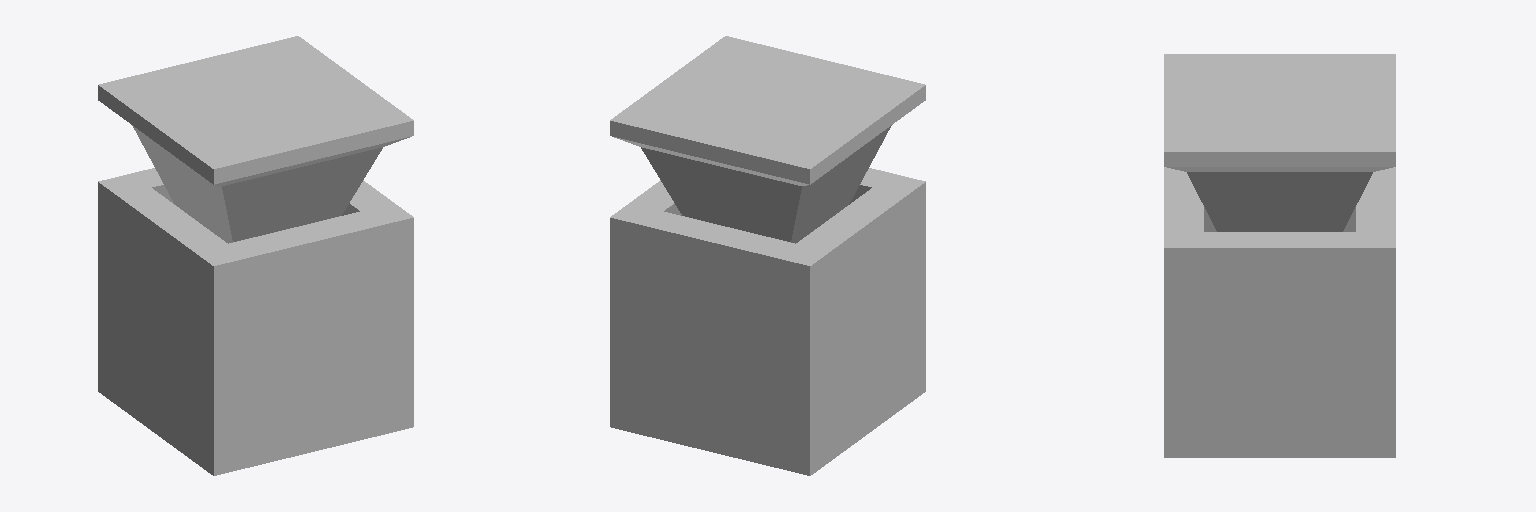
File: AnimatedBox_000168.obj
The picture shows the model from 3 angles: view 1: azimuth 30°, elevation 25°; view 2: azimuth 150°, elevation 25°; view 3: azimuth 270°, elevation 25°; orthographic projection.
Parts seen in each view (by area): view 1: Cube, Cube.001; view 2: Cube, Cube.001; view 3: Cube, Cube.001.
Boxes of the visible parts, x1,y1,x2,y2 form: Cube: [98, 168, 413, 475]; Cube.001: [98, 36, 413, 243]; Cube: [610, 168, 925, 475]; Cube.001: [610, 36, 925, 243]; Cube: [1164, 167, 1395, 457]; Cube.001: [1164, 54, 1395, 231].
Bounding box in the file's own units: 2 × 2.92 × 2.